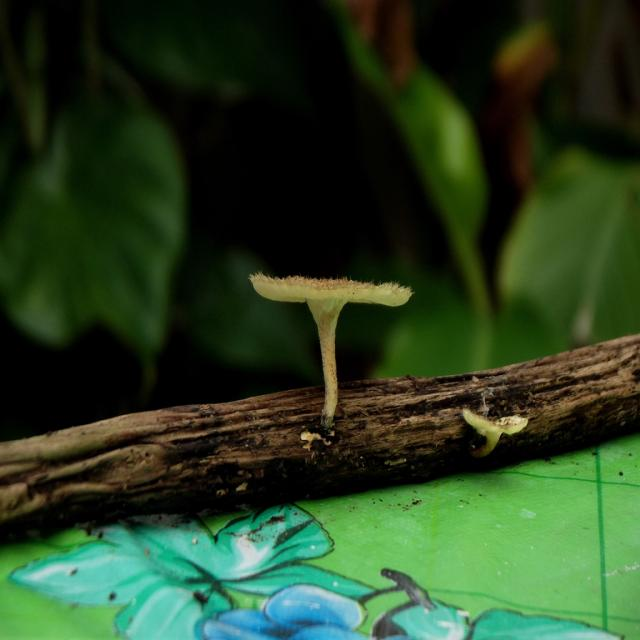mushroom: (251, 274, 415, 424), (459, 410, 525, 455)
